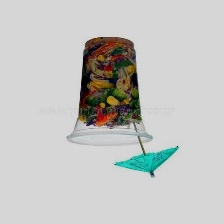glass: (60, 33, 155, 151)
